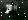person: (8, 3, 18, 16)
